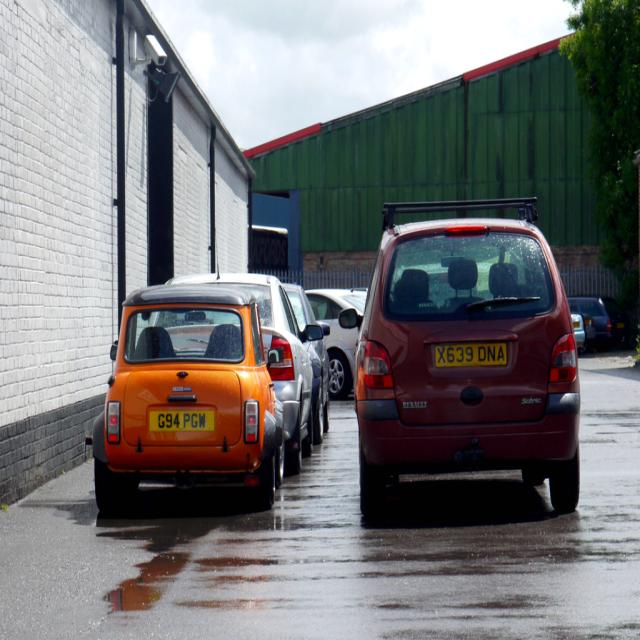car: (341, 203, 586, 516), (84, 286, 284, 508)
